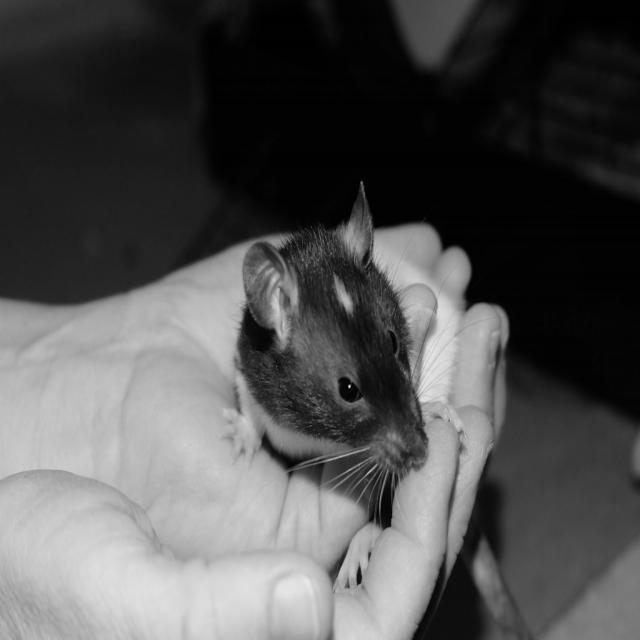rat: (222, 182, 466, 593)
